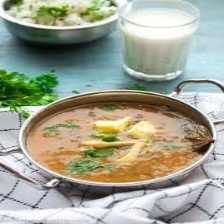sabzi: (22, 100, 212, 181)
